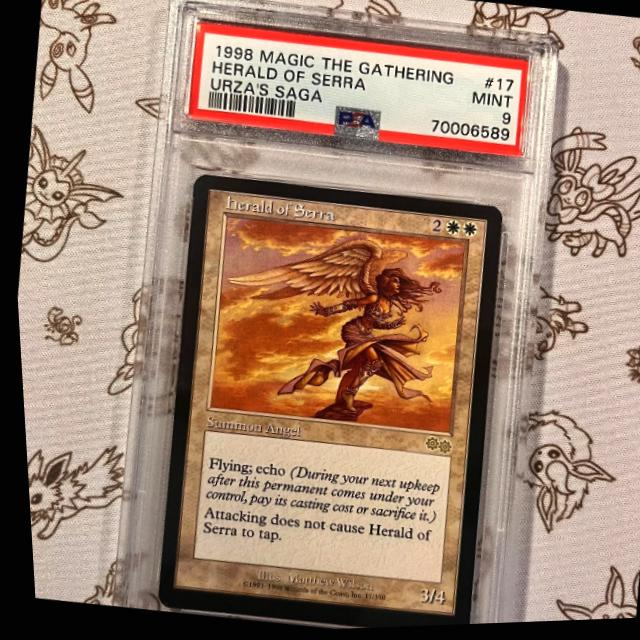card: (150, 174, 501, 630)
psa_label: (185, 21, 530, 162)
psa_slab: (104, 0, 560, 631)
